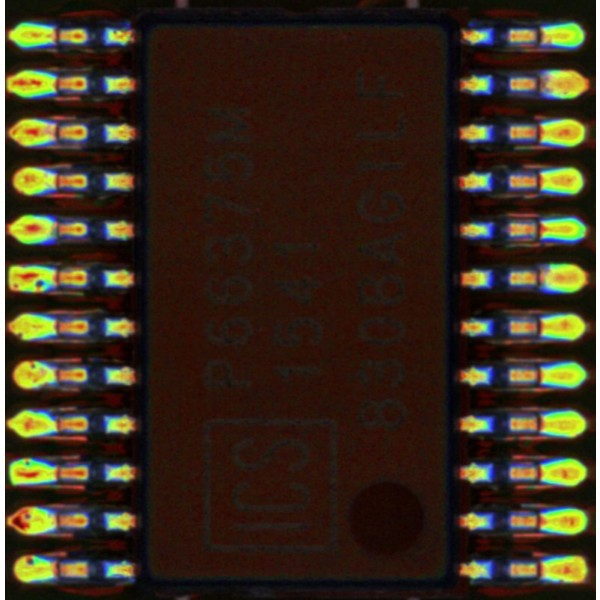Bad_podu: (528, 321, 558, 336), (39, 126, 74, 138), (529, 126, 559, 139), (529, 31, 560, 43), (528, 419, 556, 432), (528, 516, 556, 529), (528, 224, 560, 235), (43, 31, 75, 41)
